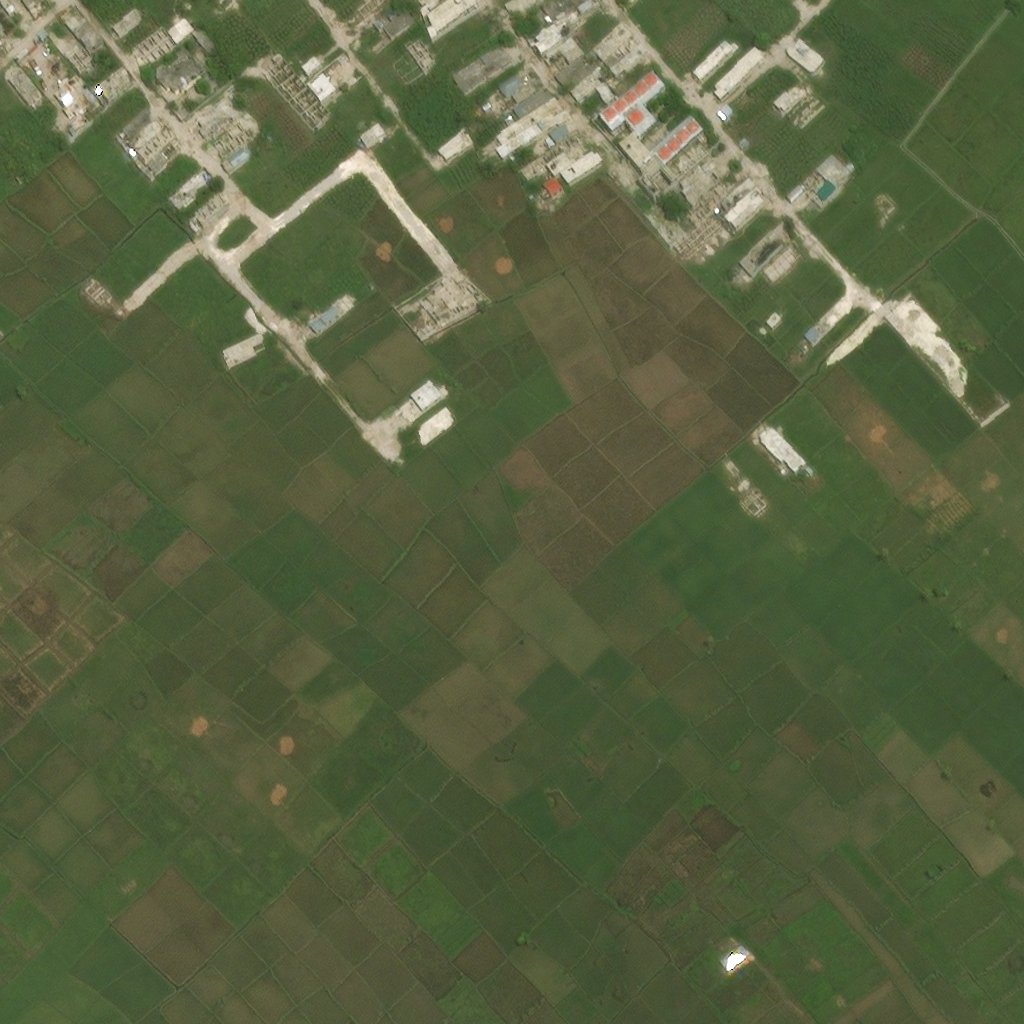destroyed: (681, 180, 711, 208), (551, 128, 570, 146), (590, 67, 603, 79)
major_damage: (198, 104, 238, 141), (815, 154, 853, 192), (522, 116, 561, 149), (65, 48, 95, 84), (538, 30, 567, 63), (561, 66, 594, 95), (806, 179, 837, 205), (97, 84, 124, 109)
minor_damage: (453, 54, 516, 104), (157, 49, 207, 101), (651, 121, 707, 165), (738, 227, 785, 273), (75, 25, 111, 65), (9, 69, 45, 108), (590, 42, 627, 78), (516, 93, 556, 126), (542, 0, 586, 26), (555, 56, 586, 86), (387, 17, 419, 46), (0, 5, 21, 49), (224, 147, 258, 174), (514, 82, 546, 110), (601, 29, 635, 53), (555, 20, 580, 46), (622, 142, 646, 169), (499, 79, 524, 104), (312, 82, 336, 106), (0, 0, 25, 19), (578, 0, 602, 19), (375, 20, 393, 38), (585, 52, 594, 62), (621, 0, 633, 6), (568, 16, 576, 24)
unclassified: (497, 141, 529, 166)
